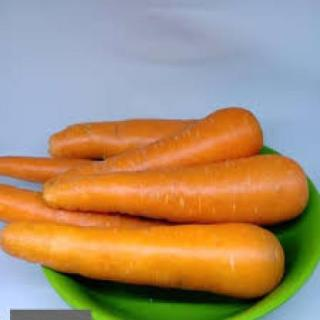Wortel: (1, 217, 289, 307), (1, 104, 267, 186), (42, 154, 308, 223), (47, 116, 216, 158)
